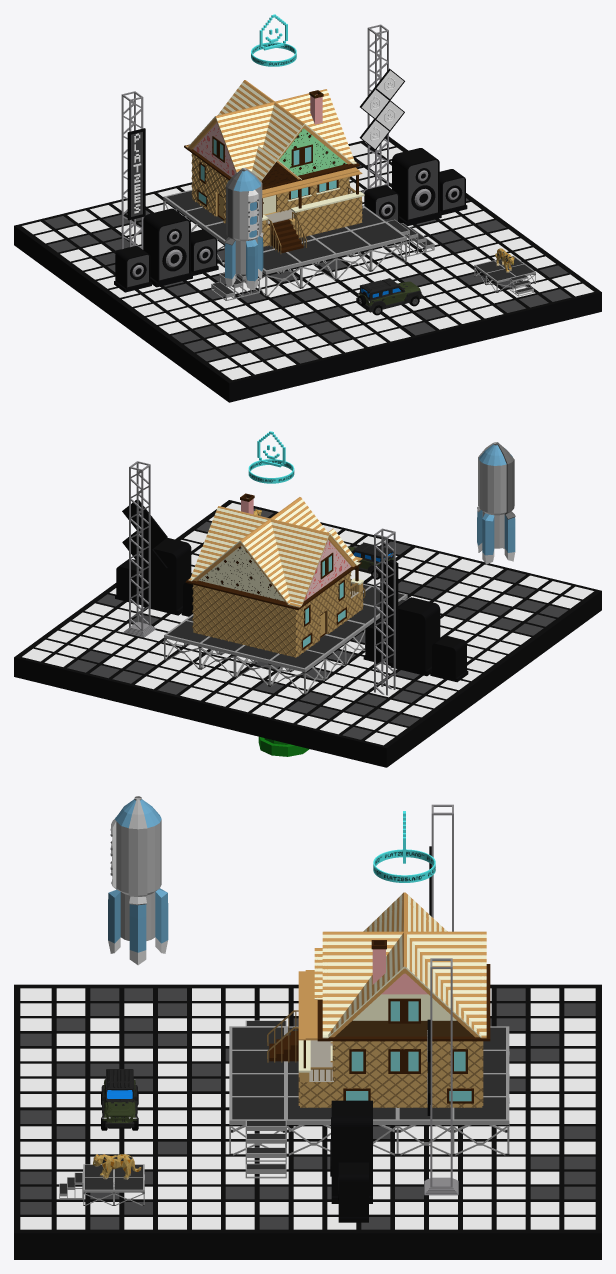
The picture shows the model from 3 angles, top to bottom: view 1: azimuth 30°, elevation 25°; view 2: azimuth 150°, elevation 25°; view 3: azimuth 270°, elevation 25°; orthographic projection. The views are drawn at different scales.
Parts seen in each view (by area): view 1: Cube.008, Cube.1102, OBJRANDOM_ROCKETSHIP, VEHICLES_JEEP, TYPE_PREMIUM; view 2: Cube.008, Cube.1102, OBJRANDOM_ROCKETSHIP, TYPE_PREMIUM, VEHICLES_JEEP, UNDERGROUND_PIPES; view 3: Cube.008, Cube.1102, OBJRANDOM_ROCKETSHIP, VEHICLES_JEEP, TYPE_PREMIUM, ANIMAL_JAGUAR.
Part boxes in pixels (x1=…): Cube.008: x1=14, y1=24, x2=601, y2=402; Cube.1102: x1=184, y1=80, x2=364, y2=254; OBJRANDOM_ROCKETSHIP: x1=224, y1=168, x2=263, y2=290; VEHICLES_JEEP: x1=356, y1=278, x2=422, y2=315; TYPE_PREMIUM: x1=251, y1=14, x2=296, y2=66; Cube.008: x1=14, y1=461, x2=601, y2=767; Cube.1102: x1=185, y1=493, x2=365, y2=657; OBJRANDOM_ROCKETSHIP: x1=477, y1=442, x2=515, y2=564; TYPE_PREMIUM: x1=248, y1=431, x2=294, y2=483; VEHICLES_JEEP: x1=347, y1=542, x2=396, y2=579; UNDERGROUND_PIPES: x1=258, y1=736, x2=309, y2=756; Cube.008: x1=14, y1=804, x2=601, y2=1259; Cube.1102: x1=267, y1=892, x2=490, y2=1107; OBJRANDOM_ROCKETSHIP: x1=108, y1=796, x2=168, y2=965; VEHICLES_JEEP: x1=101, y1=1069, x2=138, y2=1130; TYPE_PREMIUM: x1=373, y1=811, x2=435, y2=882; ANIMAL_JAGUAR: x1=92, y1=1154, x2=141, y2=1179.
Bounding box in the file's own units: 4000 × 3095 × 4000.
Materials: 40 (3 with a texture image).
